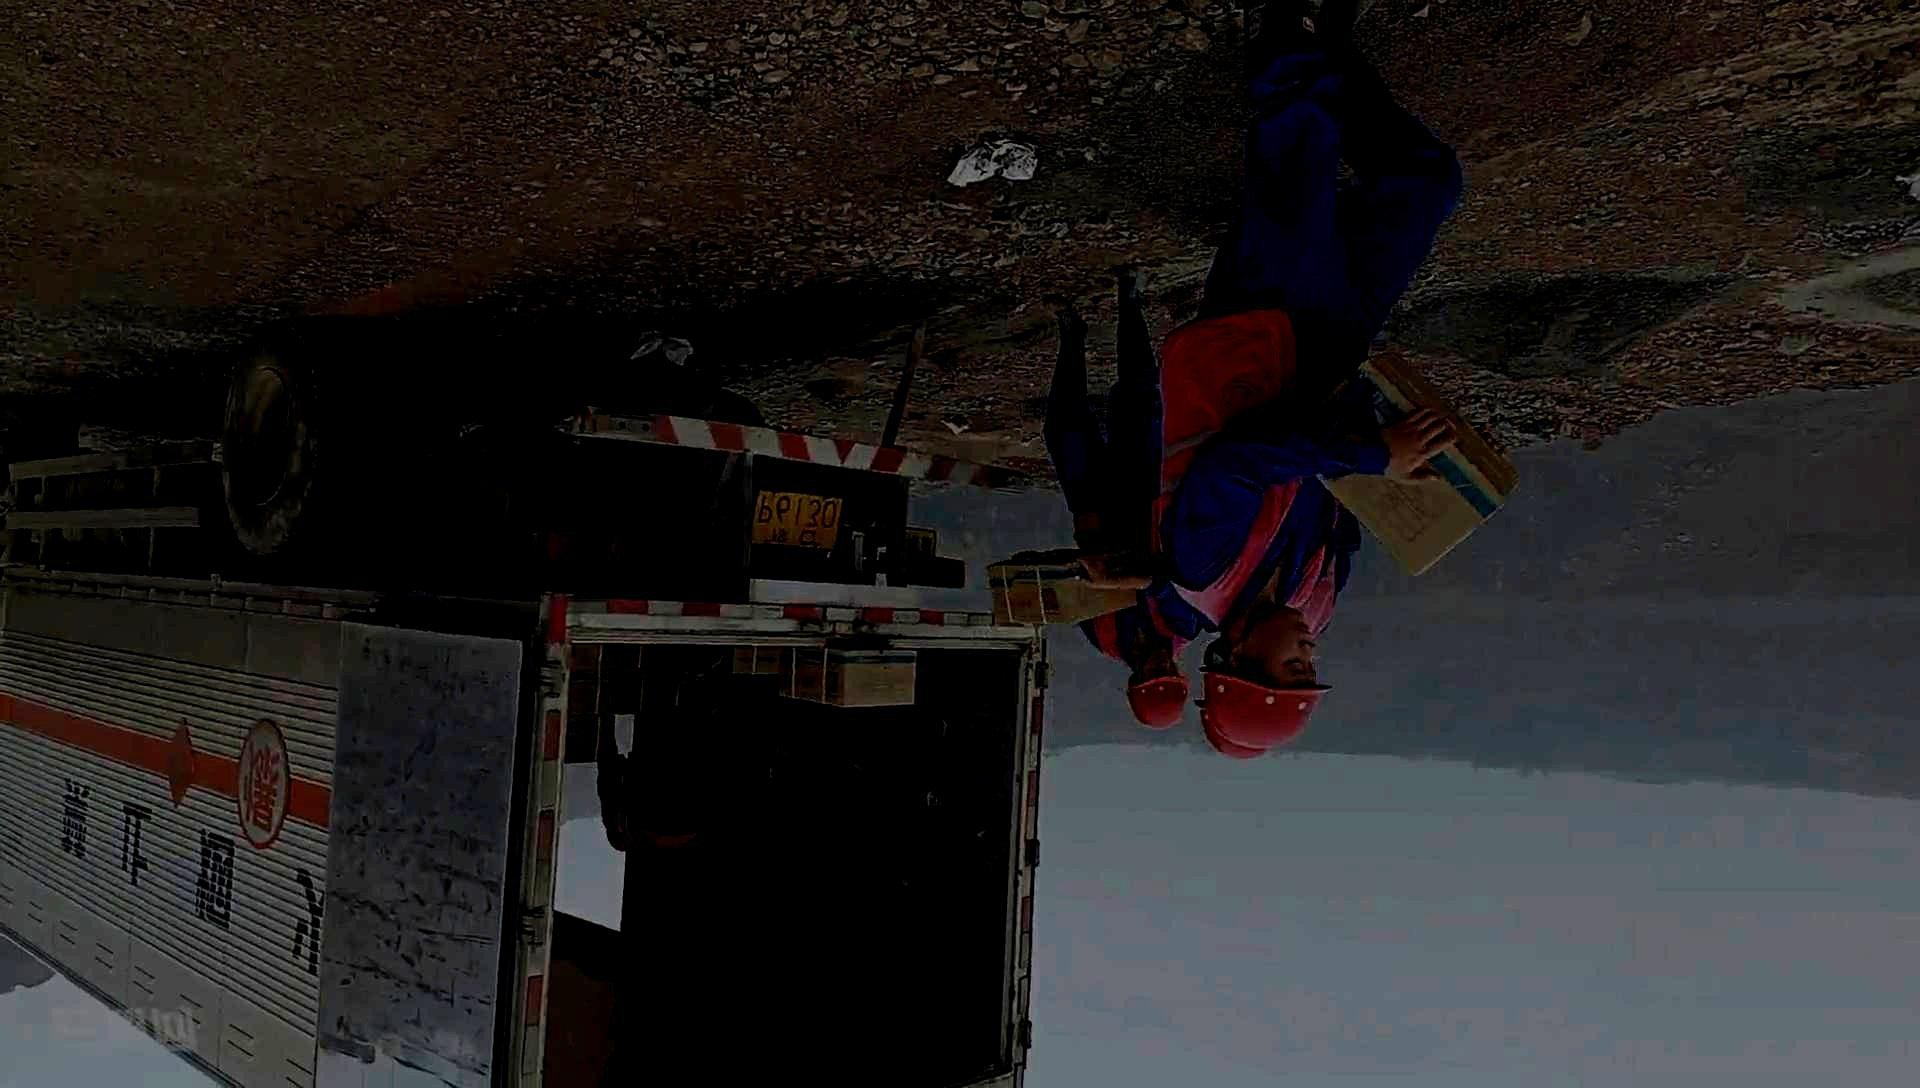helmet: (1197, 604, 1335, 750), (1125, 645, 1191, 731), (1193, 698, 1267, 760)
